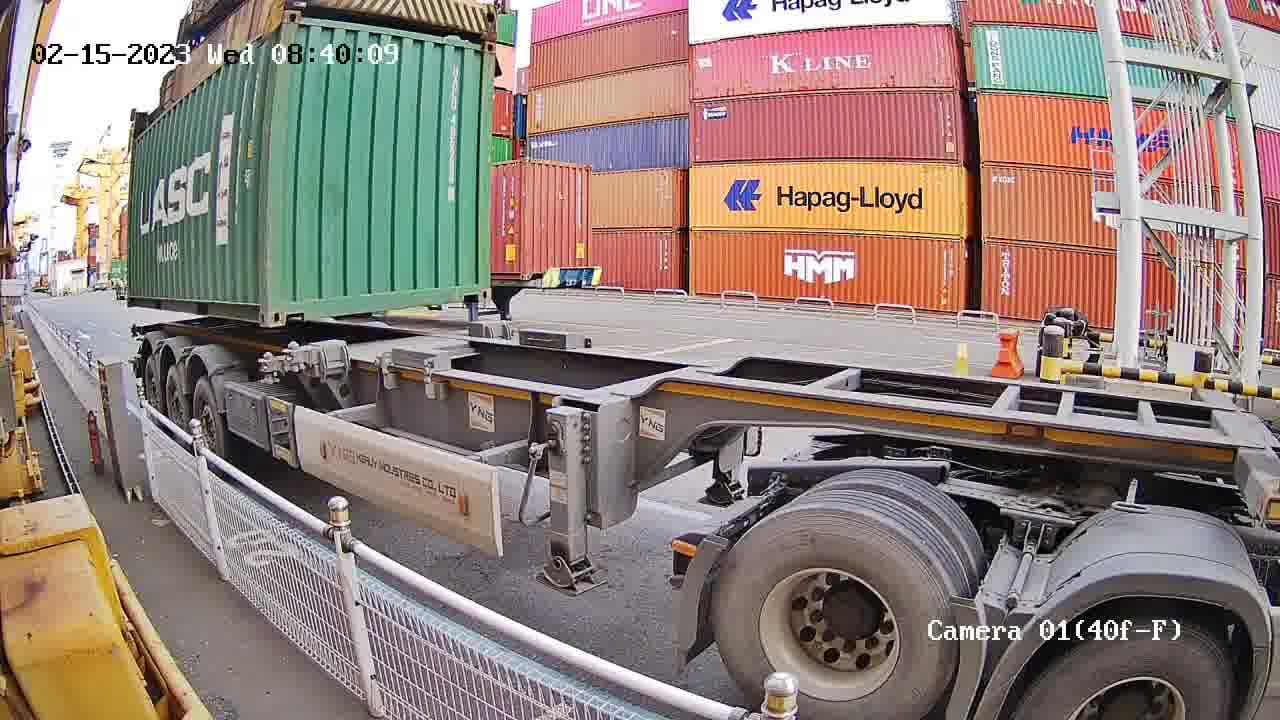Cone: (252, 346, 280, 385)
Hole_L: (270, 285, 312, 327)
Hole_R: (455, 260, 492, 301), (235, 284, 269, 325)
Tire: (711, 510, 956, 719), (1006, 625, 1234, 719), (193, 380, 228, 452), (163, 369, 183, 424), (144, 358, 160, 408)
